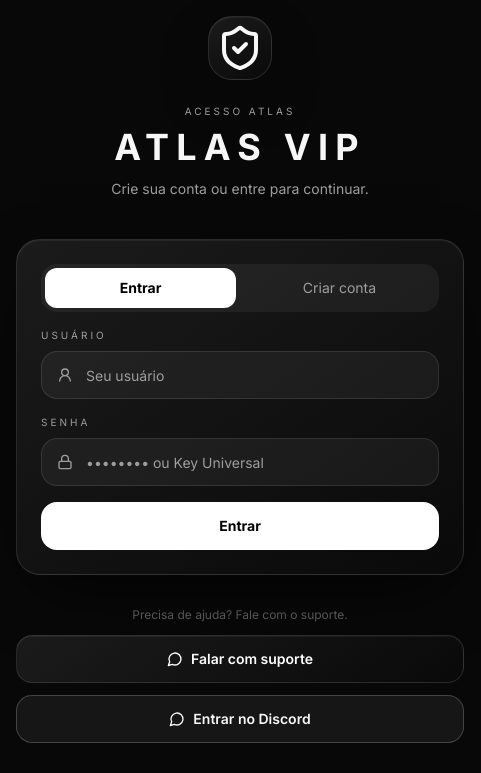
Scenario: acessos de usuário e ADM › key inválida mantém o usuário no login e mostra o motivo
Step 1. Type "ATLS-AAAA-BBBB" into the password field labelled "Senha" → [240, 462], box [41,438,439,486]
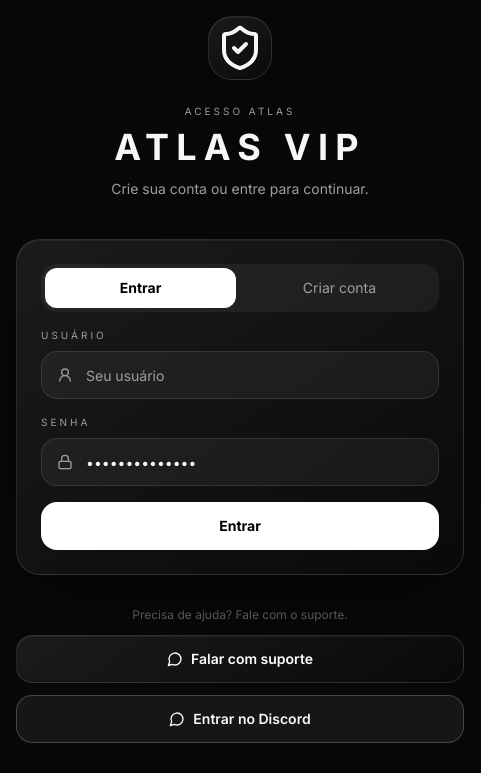
Step 2. Submit the form labelled "Senha", box [16,239,464,575]
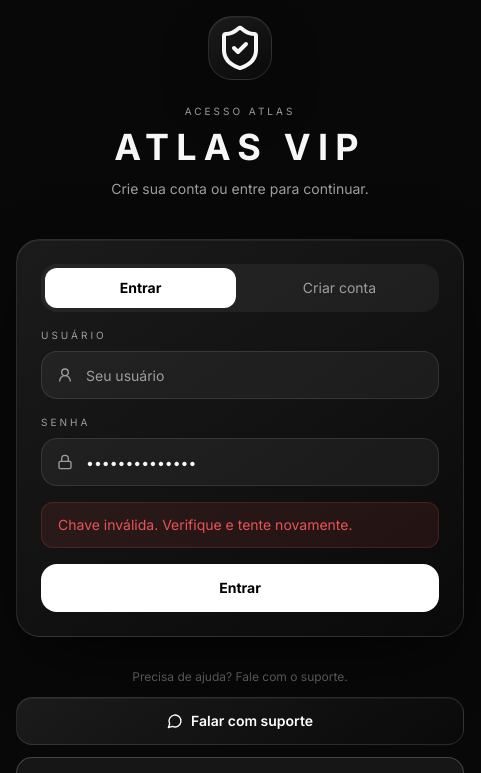
Expected: the text "Chave inválida. Verifique e tente novamente." is shown, [41,502,439,548]
